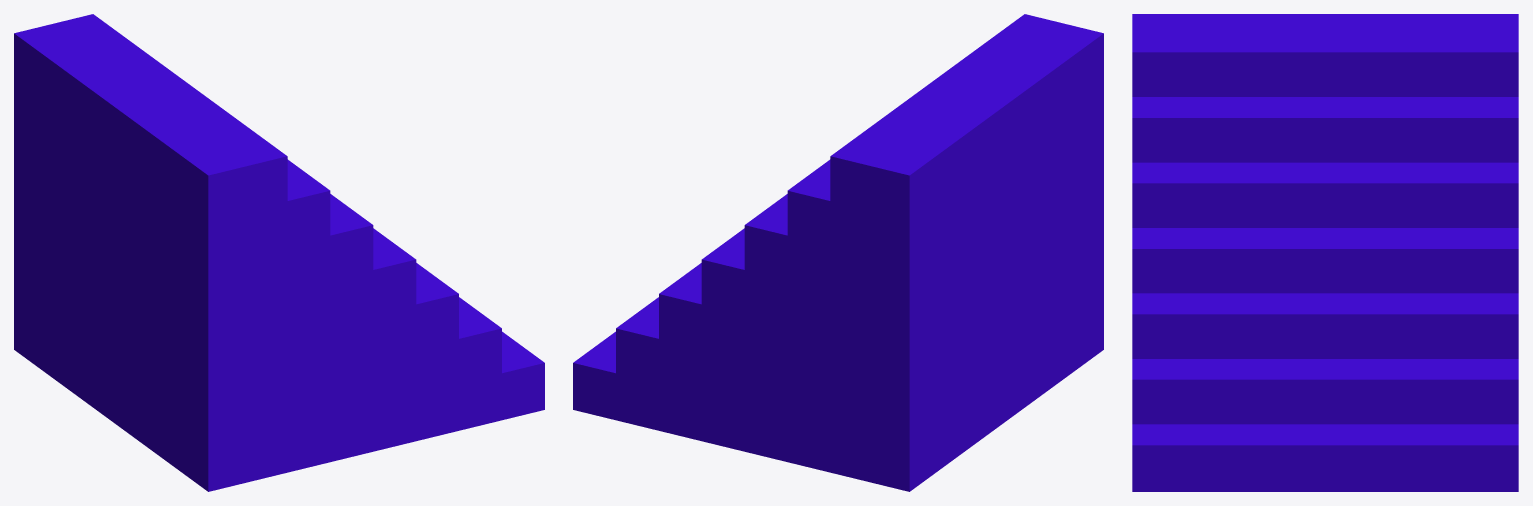
The model's file is Stairs.fbx.
The picture shows the model from 3 angles, left to right: view 1: azimuth 30°, elevation 25°; view 2: azimuth 150°, elevation 25°; view 3: azimuth 270°, elevation 25°; orthographic projection.
Parts seen in each view (by area): view 1: Stairs; view 2: Stairs; view 3: Stairs.
Boxes of the visible parts, x1,y1,x2,y2 form: Stairs: (14, 14, 544, 491); Stairs: (573, 14, 1103, 491); Stairs: (1132, 14, 1518, 491).
Size of the model in its own units: 200 by 180 by 200.
